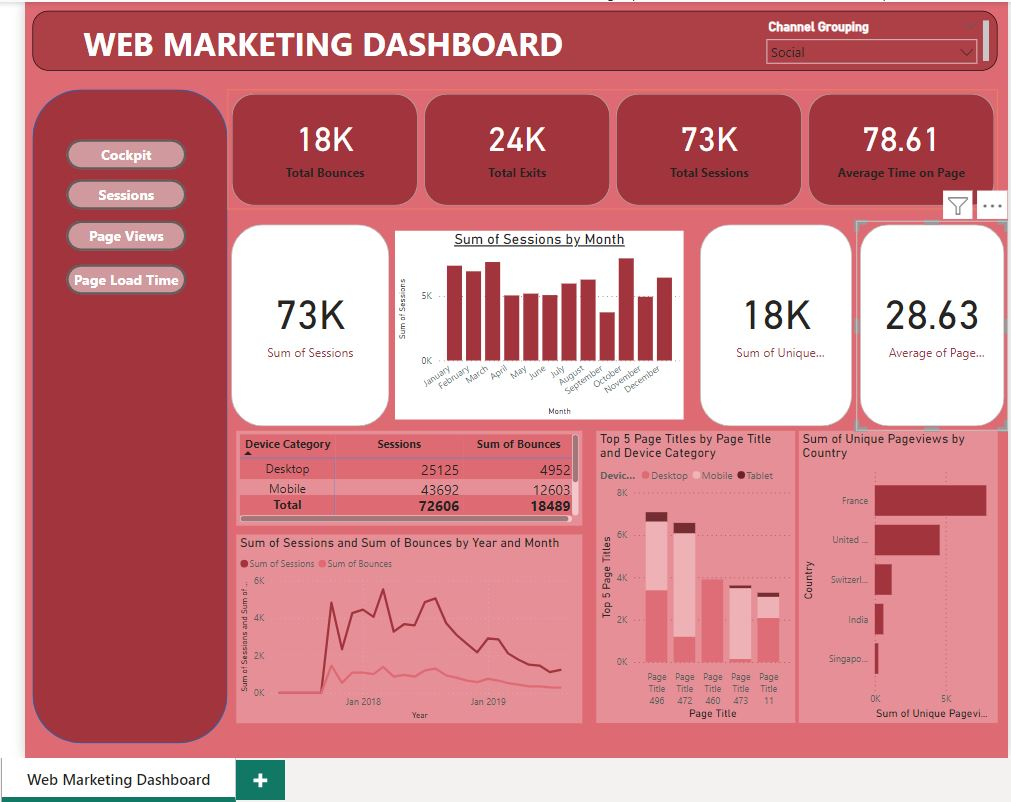

What the dashboard file says about the page in this screenshot:
{"tool":"powerbi","page":{"name":"Web Marketing Dashboard","canvas":[1300,1000],"ordinal":0},"visuals":[{"type":"textbox","box":[9.9,11.6,1276,79.3],"z":0},{"type":"shape","box":[9.9,115.7,257.9,864.5],"z":1000},{"type":"actionButton","box":[54.5,181.8,158.7,39.7],"z":2000},{"type":"actionButton","box":[54.5,234.7,158.7,39.7],"z":3000},{"type":"actionButton","box":[54.5,289.3,158.7,39.7],"z":4000},{"type":"actionButton","box":[54.5,347.1,158.7,39.7],"z":5000},{"type":"cardVisual","fields":{"Data":["Sum(Web Marketing_Migrated Data.Bounces)","Sum(Web Marketing_Migrated Data.Exits)","Sum(Web Marketing_Migrated Data.Sessions)","Avg(Web Marketing_Migrated Data.Time on Page)"]},"box":[267.8,115.7,1018.2,158.7],"z":6000},{"type":"cardVisual","fields":{"Data":["Sum(Web Marketing_Migrated Data.Sessions)"]},"box":[267.8,289.3,219.8,277.7],"z":7000},{"type":"cardVisual","fields":{"Data":["Sum(Web Marketing_Migrated Data.Unique Pageviews)"]},"box":[887.6,289.3,211.6,277.7],"z":8000},{"type":"cardVisual","fields":{"Data":["Avg(Web Marketing_Migrated Data.Page Load Time)"]},"box":[1099.2,289.3,201.7,277.7],"z":9000},{"type":"clusteredColumnChart","fields":{"Category":["Web Marketing_Migrated Data.Date.Variation.Date Hierarchy.Month"],"Y":["Sum(Web Marketing_Migrated Data.Sessions)"]},"box":[489.3,302.5,381.8,249.6],"z":10000},{"type":"pivotTable","fields":{"Rows":["Web Marketing_Migrated Data.Device Category"],"Values":["Sum(Web Marketing_Migrated Data.Sessions)","Sum(Web Marketing_Migrated Data.Bounces)"]},"box":[279.3,566.9,457.9,125.6],"z":11000},{"type":"lineChart","fields":{"Category":["Web Marketing_Migrated Data.Date.Variation.Date Hierarchy.Year","Web Marketing_Migrated Data.Date.Variation.Date Hierarchy.Month"],"Y":["Sum(Web Marketing_Migrated Data.Sessions)","Sum(Web Marketing_Migrated Data.Bounces)"]},"box":[279.3,704.1,457.9,249.6],"z":12000},{"type":"columnChart","fields":{"Category":["Web Marketing_Migrated Data.Page Title"],"Y":["Sum(Web Marketing_Migrated Data.Unique Pageviews)"],"Series":["Web Marketing_Migrated Data.Device Category"]},"box":[755.4,566.9,262.8,386.8],"z":13000},{"type":"clusteredBarChart","fields":{"Category":["Web Marketing_Migrated Data.Country"],"Y":["Sum(Web Marketing_Migrated Data.Unique Pageviews)"]},"box":[1023.1,566.9,262.8,386.8],"z":14000},{"type":"slicer","fields":{"Values":["Web Marketing_Migrated Data.Channel Grouping"]},"box":[970.2,18.2,299.2,66.1],"z":15000}]}

Visuals, with their boxes in screenshot pixels (x1, y1, x2, y2):
textbox: box=[23, 9, 1002, 70]
shape: box=[23, 89, 221, 752]
actionButton: box=[58, 139, 179, 170]
actionButton: box=[58, 180, 179, 210]
actionButton: box=[58, 222, 179, 252]
actionButton: box=[58, 266, 179, 297]
cardVisual - Sum(Web Marketing_Migrated Data.Bounces) x Sum(Web Marketing_Migrated Data.Exits): box=[221, 89, 1002, 210]
cardVisual - Sum(Web Marketing_Migrated Data.Sessions): box=[221, 222, 390, 435]
cardVisual - Sum(Web Marketing_Migrated Data.Unique Pageviews): box=[697, 222, 859, 435]
cardVisual - Avg(Web Marketing_Migrated Data.Page Load Time): box=[859, 222, 1010, 435]
clusteredColumnChart - Web Marketing_Migrated Data.Date.Variation.Date Hierarchy.Month x Sum(Web Marketing_Migrated Data.Sessions): box=[391, 232, 684, 423]
pivotTable - Web Marketing_Migrated Data.Device Category x Sum(Web Marketing_Migrated Data.Sessions): box=[230, 435, 581, 531]
lineChart - Web Marketing_Migrated Data.Date.Variation.Date Hierarchy.Year x Web Marketing_Migrated Data.Date.Variation.Date Hierarchy.Month: box=[230, 540, 581, 731]
columnChart - Web Marketing_Migrated Data.Page Title x Sum(Web Marketing_Migrated Data.Unique Pageviews): box=[595, 435, 797, 731]
clusteredBarChart - Web Marketing_Migrated Data.Country x Sum(Web Marketing_Migrated Data.Unique Pageviews): box=[800, 435, 1002, 731]
slicer - Web Marketing_Migrated Data.Channel Grouping: box=[760, 14, 989, 65]
